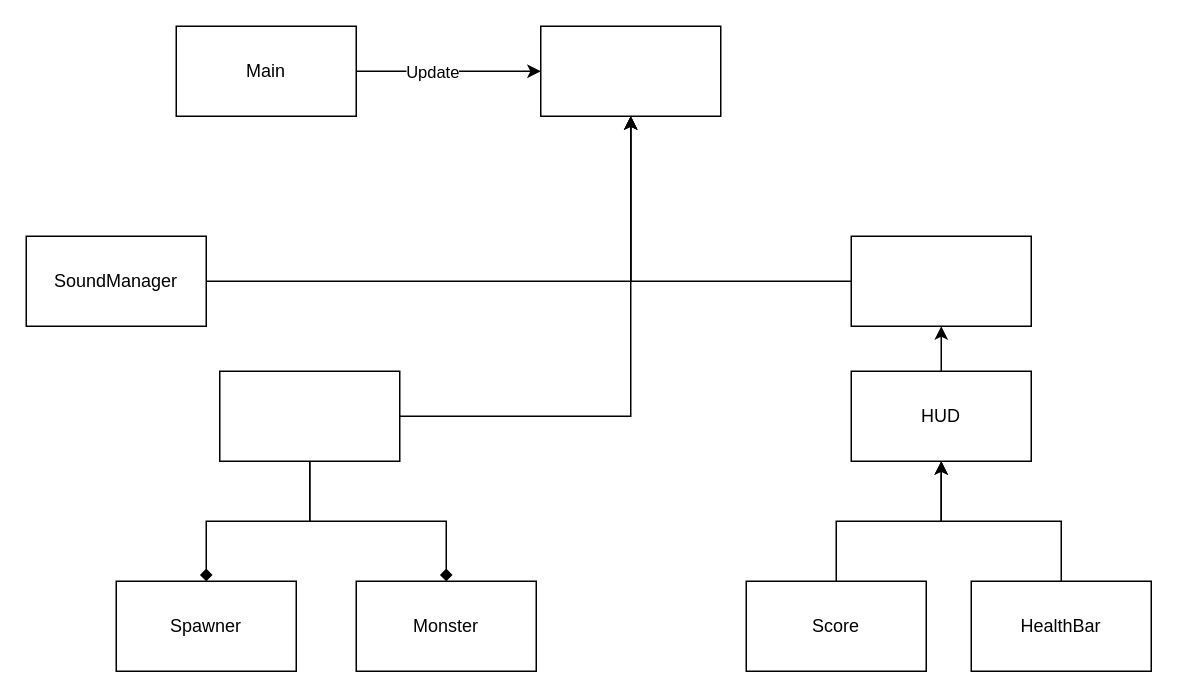
The diagram is 1178 pixels wide and 698 high, and some of its shapes have lost their labels. Here are the shapes that lost their labels. From the top down, the centre of each, then its label:
the point at 630,70: GameManager
the point at 940,280: Camera
the point at 309,415: EntityManager
